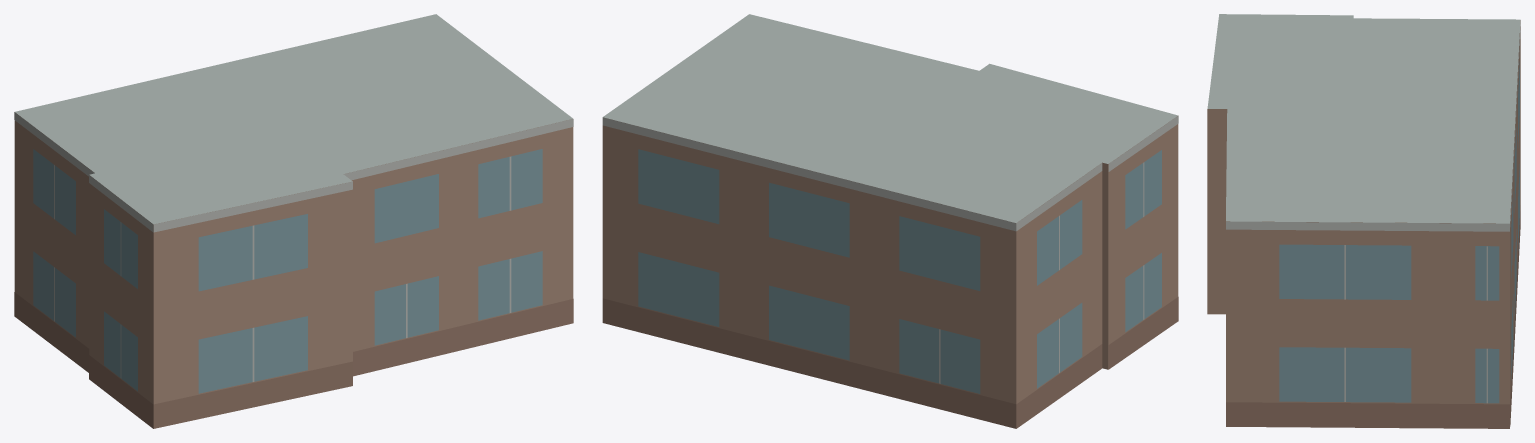
Rendered from survey-upis-32921460.glb.
3 renders of one model, left to right at view 1: azimuth 30°, elevation 25°; view 2: azimuth 150°, elevation 25°; view 3: azimuth 270°, elevation 25°, orthographic.
Parts seen in each view (by area): view 1: survey-upis-32921460.tmp; view 2: survey-upis-32921460.tmp; view 3: survey-upis-32921460.tmp.
Part boxes in pixels (left/top/right/bottom): survey-upis-32921460.tmp: left=14, top=14, right=573, bottom=428; survey-upis-32921460.tmp: left=602, top=14, right=1178, bottom=428; survey-upis-32921460.tmp: left=1207, top=14, right=1520, bottom=428.
Size of the model in its own units: 13.36 by 6.1 by 8.44.
